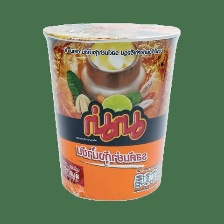paper_cup: (37, 16, 187, 204)
